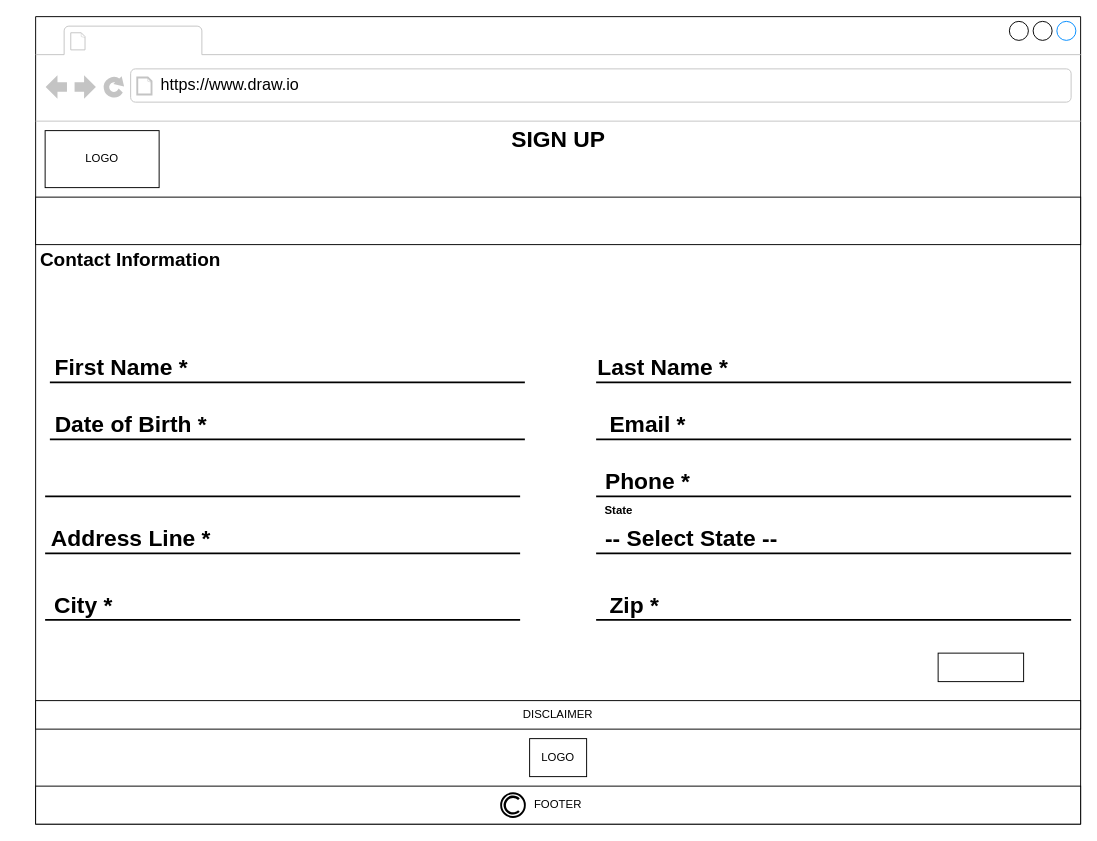
Image size: 1097x841. Some labels were removed from this diagram. Here are the shapes that lost their labels. From the top down, the centre of each, then its label:
pixel 144 40: Page 1
pixel 558 220: BANNER/ COOL PIC
pixel 980 667: Next
